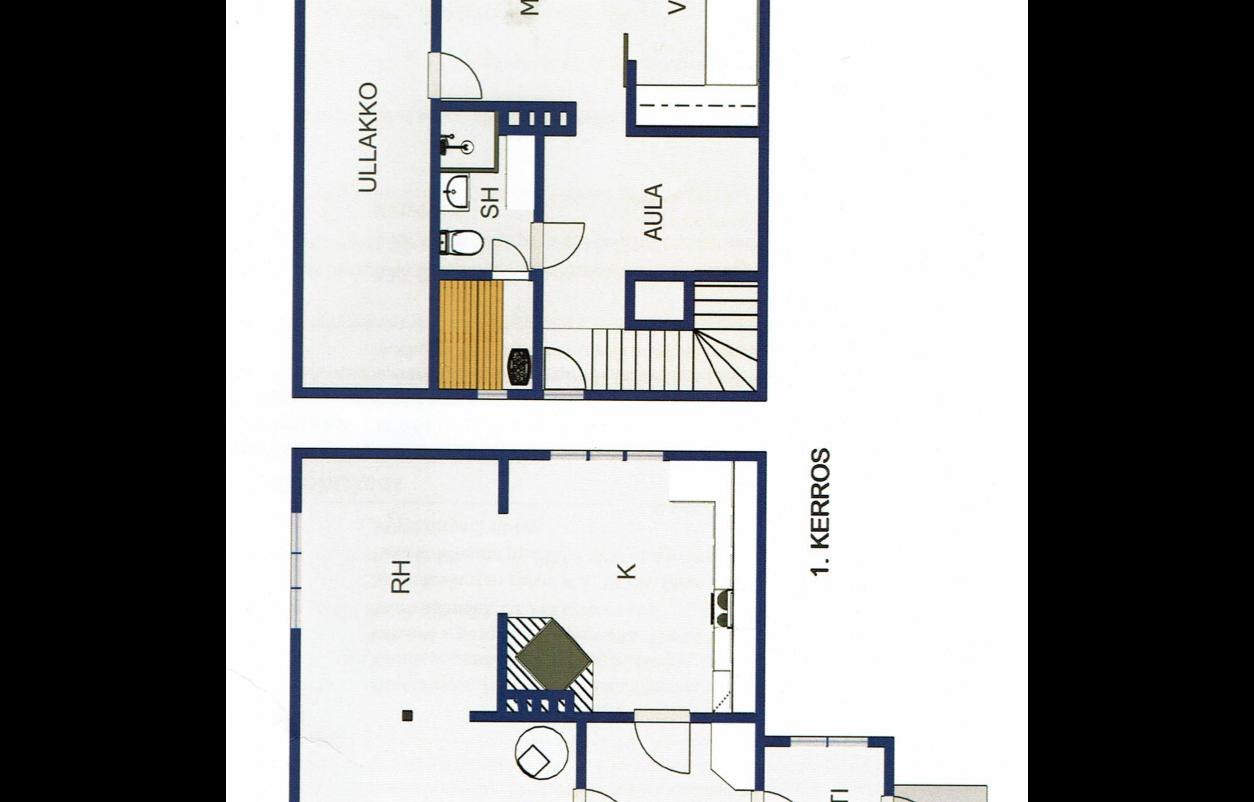bathroom: (440, 136, 533, 274)
door: (632, 706, 696, 774), (526, 214, 588, 274), (424, 42, 482, 100), (536, 340, 588, 404), (489, 235, 536, 283), (749, 785, 823, 802), (571, 785, 637, 802)
perimeter: (288, 450, 895, 802), (291, 0, 772, 397)
stairs: (588, 328, 759, 392), (690, 277, 761, 391)
window: (278, 502, 310, 554), (540, 441, 588, 466), (281, 550, 312, 588), (622, 443, 672, 466), (286, 586, 308, 638), (825, 730, 879, 749), (586, 442, 626, 464), (786, 731, 828, 749), (471, 387, 512, 401)
